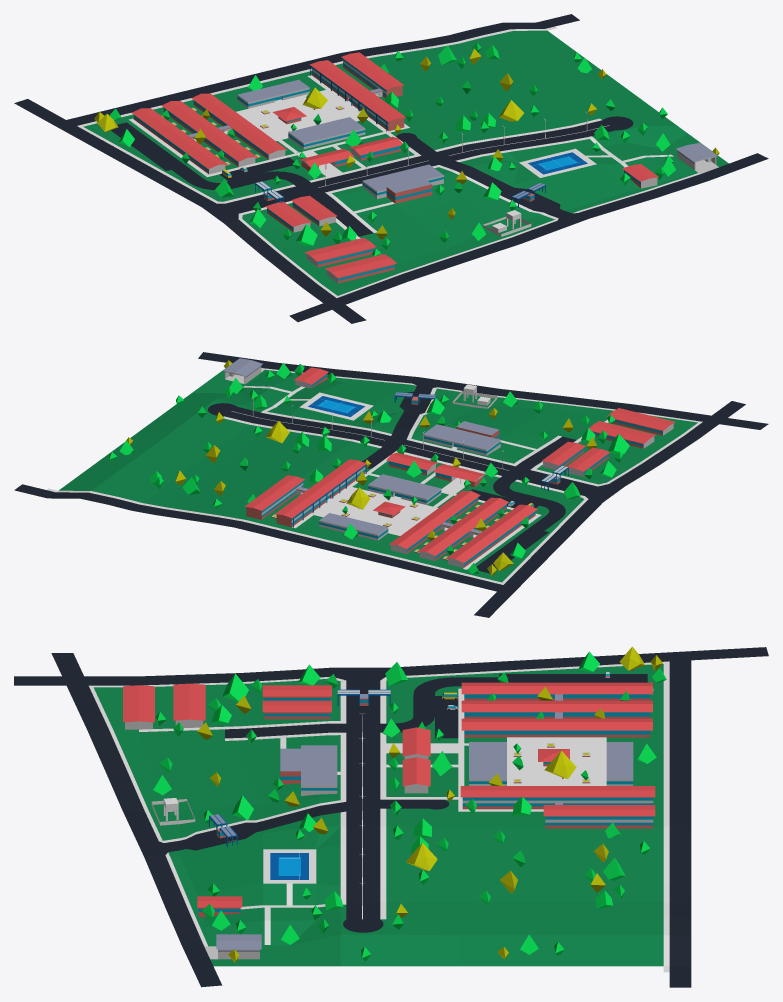
Rendered from cmmm.glb.
The picture shows the model from 3 angles, top to bottom: view 1: azimuth 30°, elevation 25°; view 2: azimuth 150°, elevation 25°; view 3: azimuth 270°, elevation 25°; orthographic projection. The views are drawn at different scales.
Parts seen in each view (by area): view 1: mecmmm_basegreen, cmmmmeroa.014, cmmmmeroa, cmmmmeroa.013, cmmmmepav.014, cmmmmeroa.012, cmmmmebui.008, cmmmmeroa.011, cmmmmebui, cmmmmebui.002, cmmmmebui.001, cmmmmeroa.001 (+19 smaller); view 2: mecmmm_basegreen, cmmmmeroa, cmmmmeroa.013, cmmmmeroa.014, cmmmmepav.014, cmmmmeroa.012, cmmmmebui.008, cmmmmeroa.011, cmmmmebui, cmmmmebui.002, cmmmmebui.001, cmmmmebui.017 (+18 smaller); view 3: mecmmm_basegreen, cmmmmeroa, cmmmmeroa.014, cmmmmeroa.013, cmmmmebui.008, cmmmmepav.014, cmmmmebui.002, cmmmmebui.001, cmmmmebui, cmmmmeroa.011, cmmmmeroa.012, cmmmmebui.009 (+25 smaller).
Part boxes in pixels (x1,y1,x2,y2): mecmmm_basegreen: (83,30,728,295); cmmmmeroa.014: (289,153,768,322); cmmmmeroa: (217,120,615,218); cmmmmeroa.013: (66,14,579,125); cmmmmepav.014: (236,90,359,140); cmmmmeroa.012: (14,99,215,206); cmmmmebui.008: (309,60,405,131); cmmmmeroa.011: (202,203,366,323); cmmmmebui: (131,108,227,174); cmmmmebui.002: (191,93,287,159); cmmmmebui.001: (161,101,257,166); cmmmmeroa.001: (439,161,577,220); mecmmm_basegreen: (59,368,697,582); cmmmmeroa: (225,407,608,498); cmmmmeroa.013: (14,484,502,591); cmmmmeroa.014: (198,352,768,429); cmmmmepav.014: (314,487,438,535); cmmmmeroa.012: (474,499,602,617); cmmmmebui.008: (275,459,366,527); cmmmmeroa.011: (589,401,745,502); cmmmmebui: (446,504,537,567); cmmmmebui.002: (389,490,480,554); cmmmmebui.001: (417,497,508,560); cmmmmebui.017: (423,424,500,455); mecmmm_basegreen: (93,664,663,966); cmmmmeroa: (335,677,384,919); cmmmmeroa.014: (51,653,222,987); cmmmmeroa.013: (669,660,691,987); cmmmmebui.008: (460,786,655,809); cmmmmepav.014: (507,737,606,785); cmmmmebui.002: (461,718,652,737); cmmmmebui.001: (461,700,652,718); cmmmmebui: (461,682,652,700); cmmmmeroa.011: (14,667,385,685); cmmmmeroa.012: (385,647,768,676); cmmmmebui.009: (543,805,655,828).
Bounding box in the file's own units: 5.12 × 0.3795 × 5.07.
